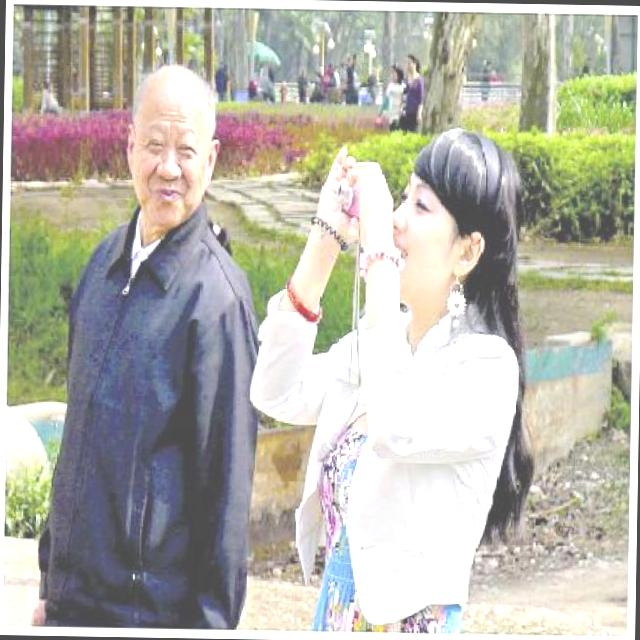Person: (20, 62, 267, 638)
